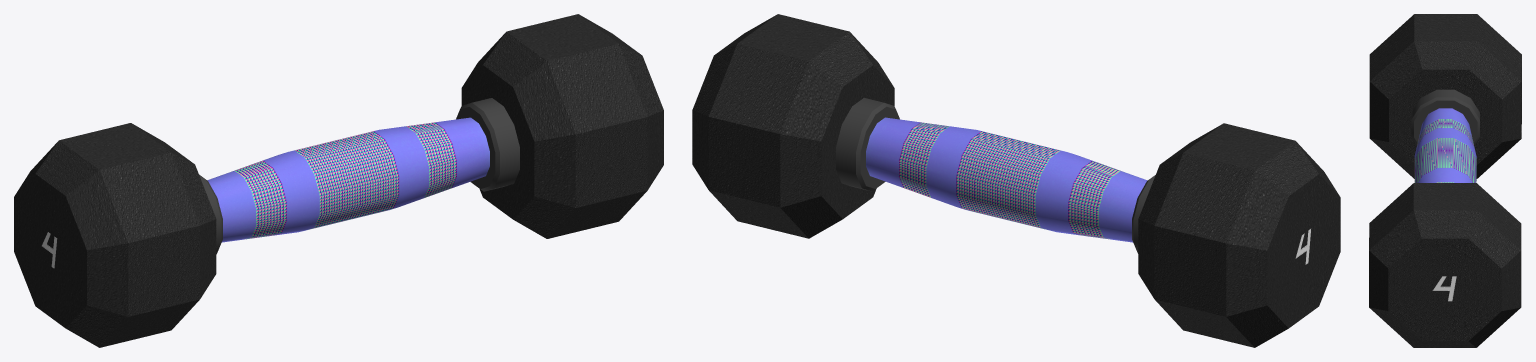
File: Dumbbell_4kG.FBX
The picture shows the model from 3 angles, left to right: view 1: azimuth 30°, elevation 25°; view 2: azimuth 150°, elevation 25°; view 3: azimuth 270°, elevation 25°; orthographic projection. The views are drawn at different scales.
Visible parts, largest first — view 1: Dumbbell_4kG; view 2: Dumbbell_4kG; view 3: Dumbbell_4kG.
Boxes of the visible parts, x1,y1,x2,y2 form: Dumbbell_4kG: (14, 14, 663, 347); Dumbbell_4kG: (692, 14, 1340, 347); Dumbbell_4kG: (1369, 14, 1521, 347).
Size of the model in its own units: 0.2696 by 0.0798 by 0.0794.
